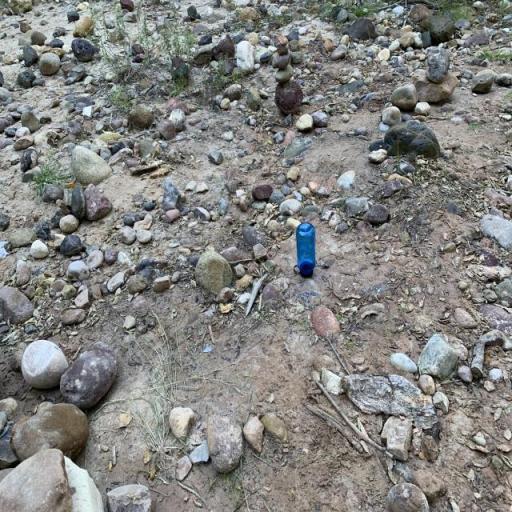bottle: (294, 222, 315, 278)
